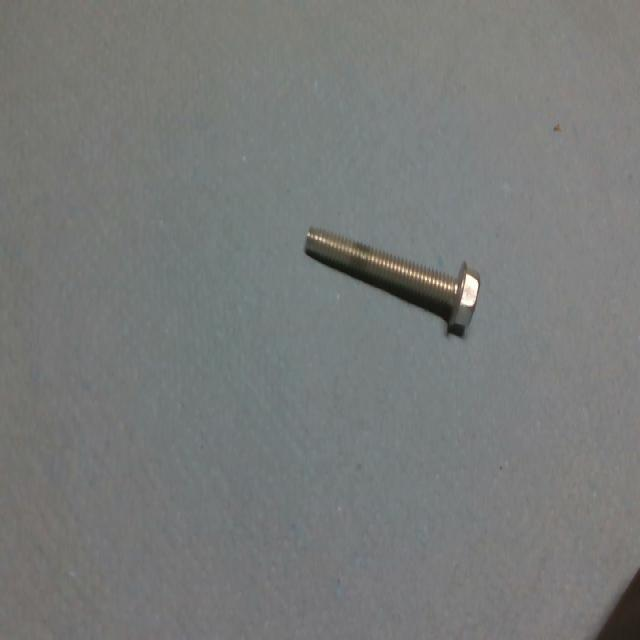Bolt: (294, 216, 489, 352)
